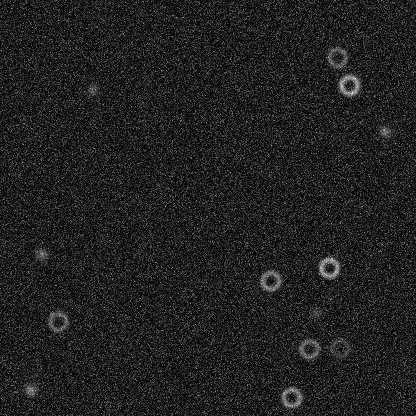Ring: (337, 73, 361, 97), (258, 268, 282, 292), (327, 336, 351, 360), (317, 255, 341, 279), (296, 336, 320, 360), (279, 385, 303, 409), (45, 309, 69, 333), (325, 45, 349, 69)
Spot: (33, 246, 49, 262), (376, 123, 392, 139), (307, 305, 323, 321), (84, 81, 100, 97), (22, 381, 38, 397)
